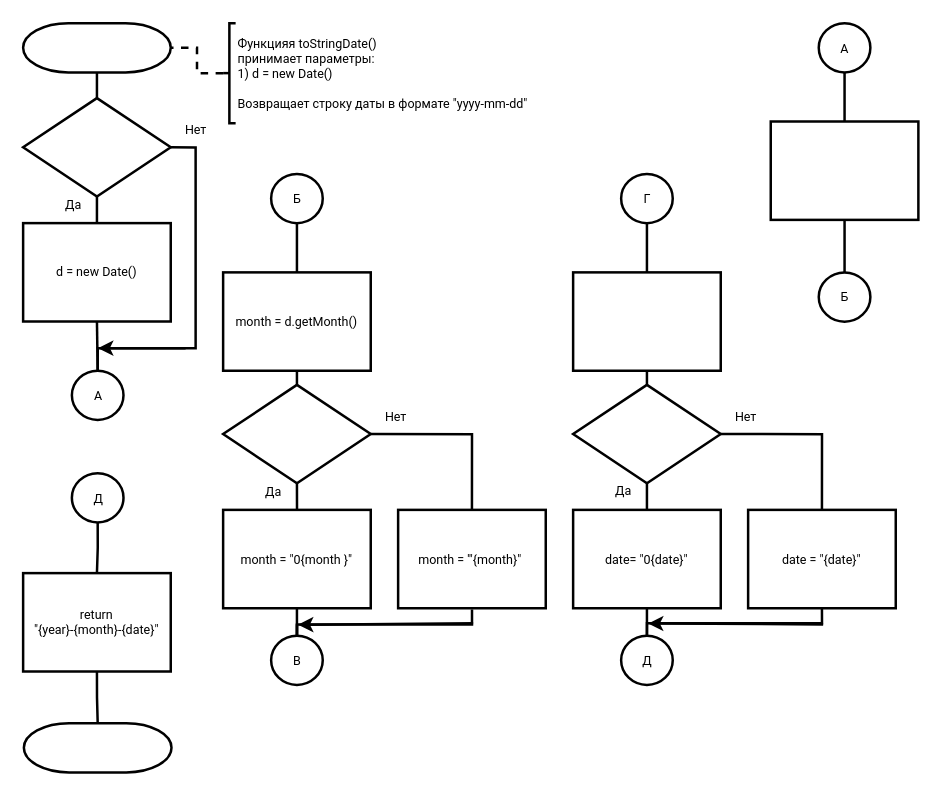
The diagram is 941 pixels wide and 795 high, and some of its shapes have lost their labels. The shapes that lost their labels are listed below. From the top down, each one's centre as x and y in pixels, then its label:
point (96, 47): Начало
point (96, 146): d.toString() === 'Invalid Date'
point (844, 170): year= d.getFullYear()
point (646, 320): date= d.getDate()
point (296, 433): month < 10
point (646, 433): date < 10
point (97, 747): Конец
